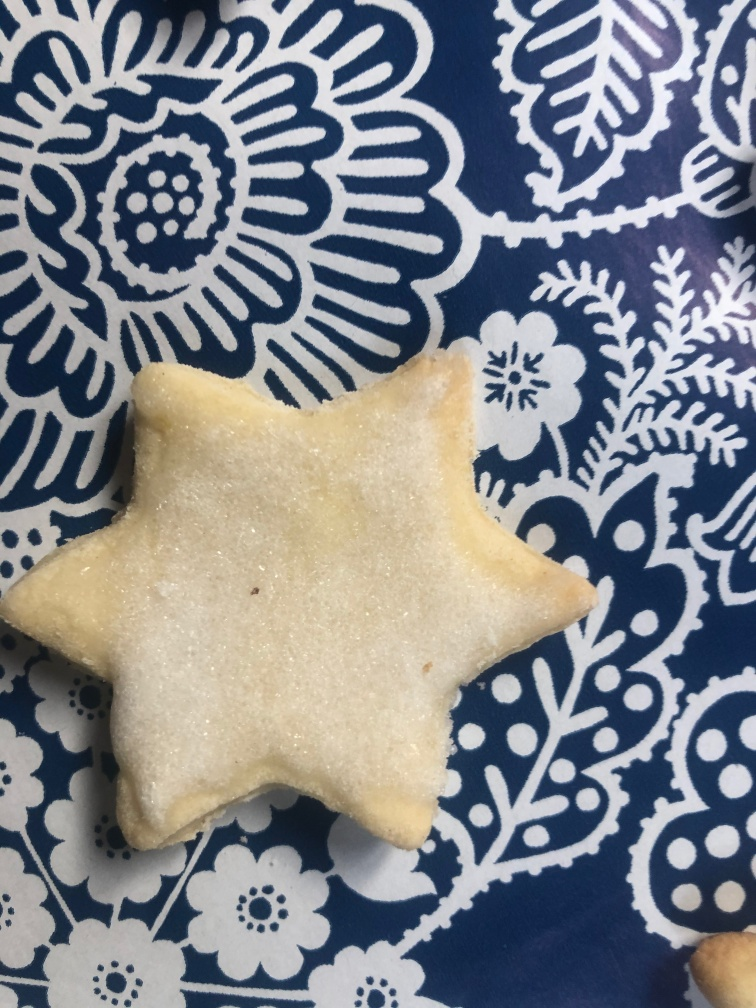star: (1, 319, 597, 877)
